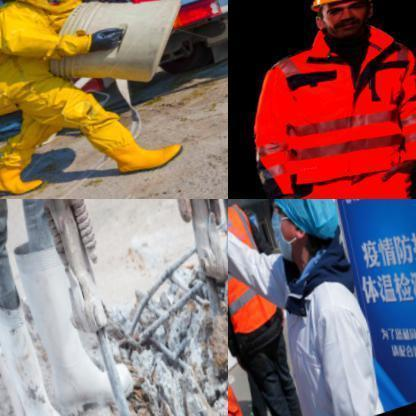vest: (228, 9, 415, 198), (0, 0, 76, 157), (228, 202, 280, 347), (259, 199, 285, 210)
